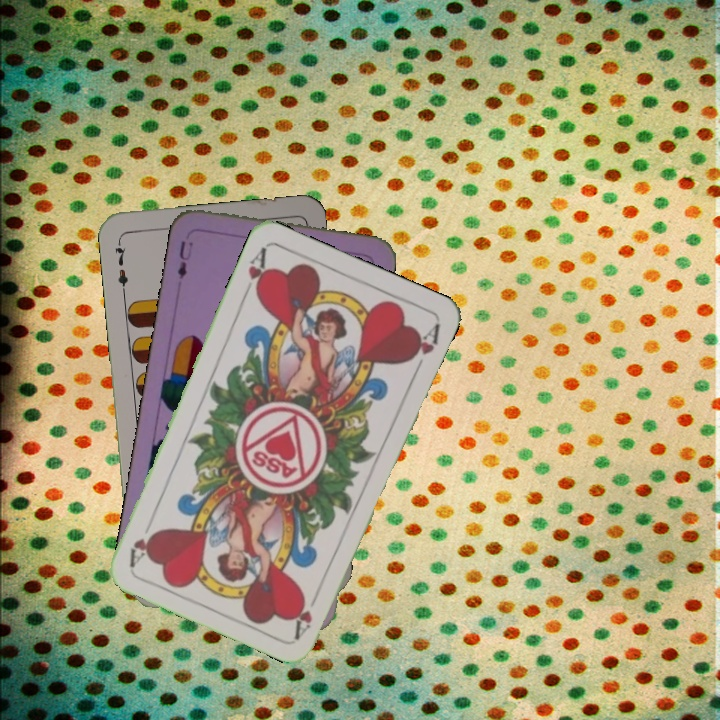E7: (110, 236, 130, 296)
EU: (173, 237, 196, 281)
HA: (290, 584, 324, 640), (239, 243, 271, 300)
